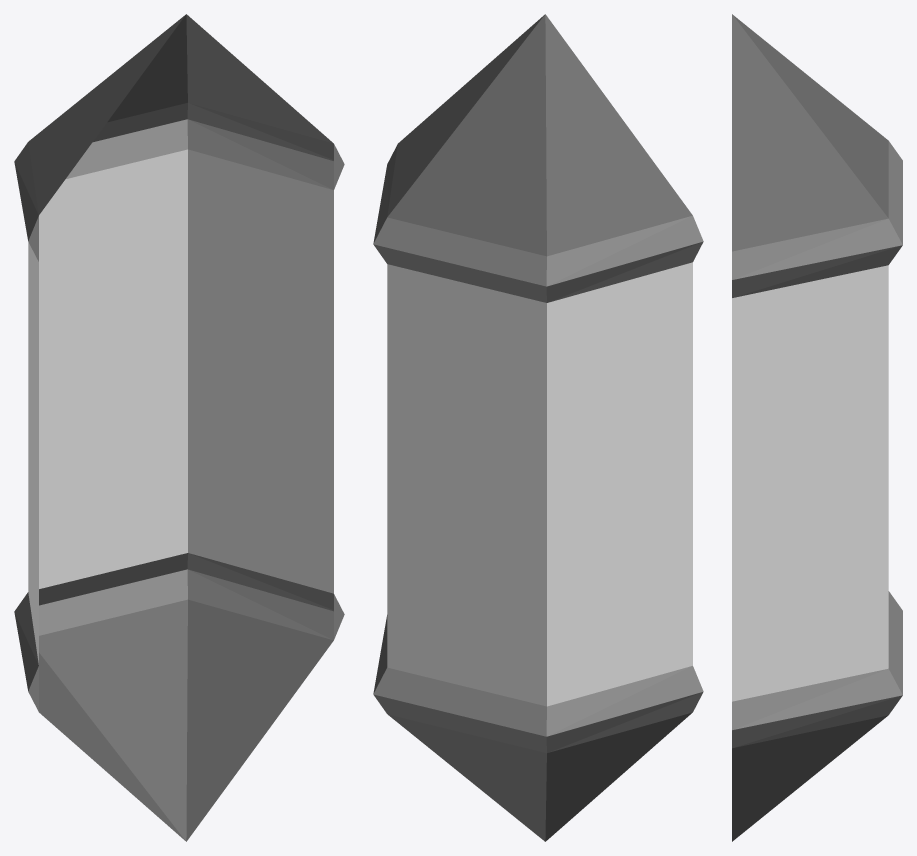
The model's file is WallLamp.FBX.
3 renders of one model, left to right at view 1: azimuth 30°, elevation 25°; view 2: azimuth 150°, elevation 25°; view 3: azimuth 270°, elevation 25°, orthographic.
Parts seen in each view (by area): view 1: Cylinder001; view 2: Cylinder001; view 3: Cylinder001.
Boxes of the visible parts, x1,y1,x2,y2 form: Cylinder001: (14,14,344,841); Cylinder001: (373,14,703,841); Cylinder001: (732,14,902,841).
Size of the model in its own units: 15.69 by 39.23 by 7.34.
